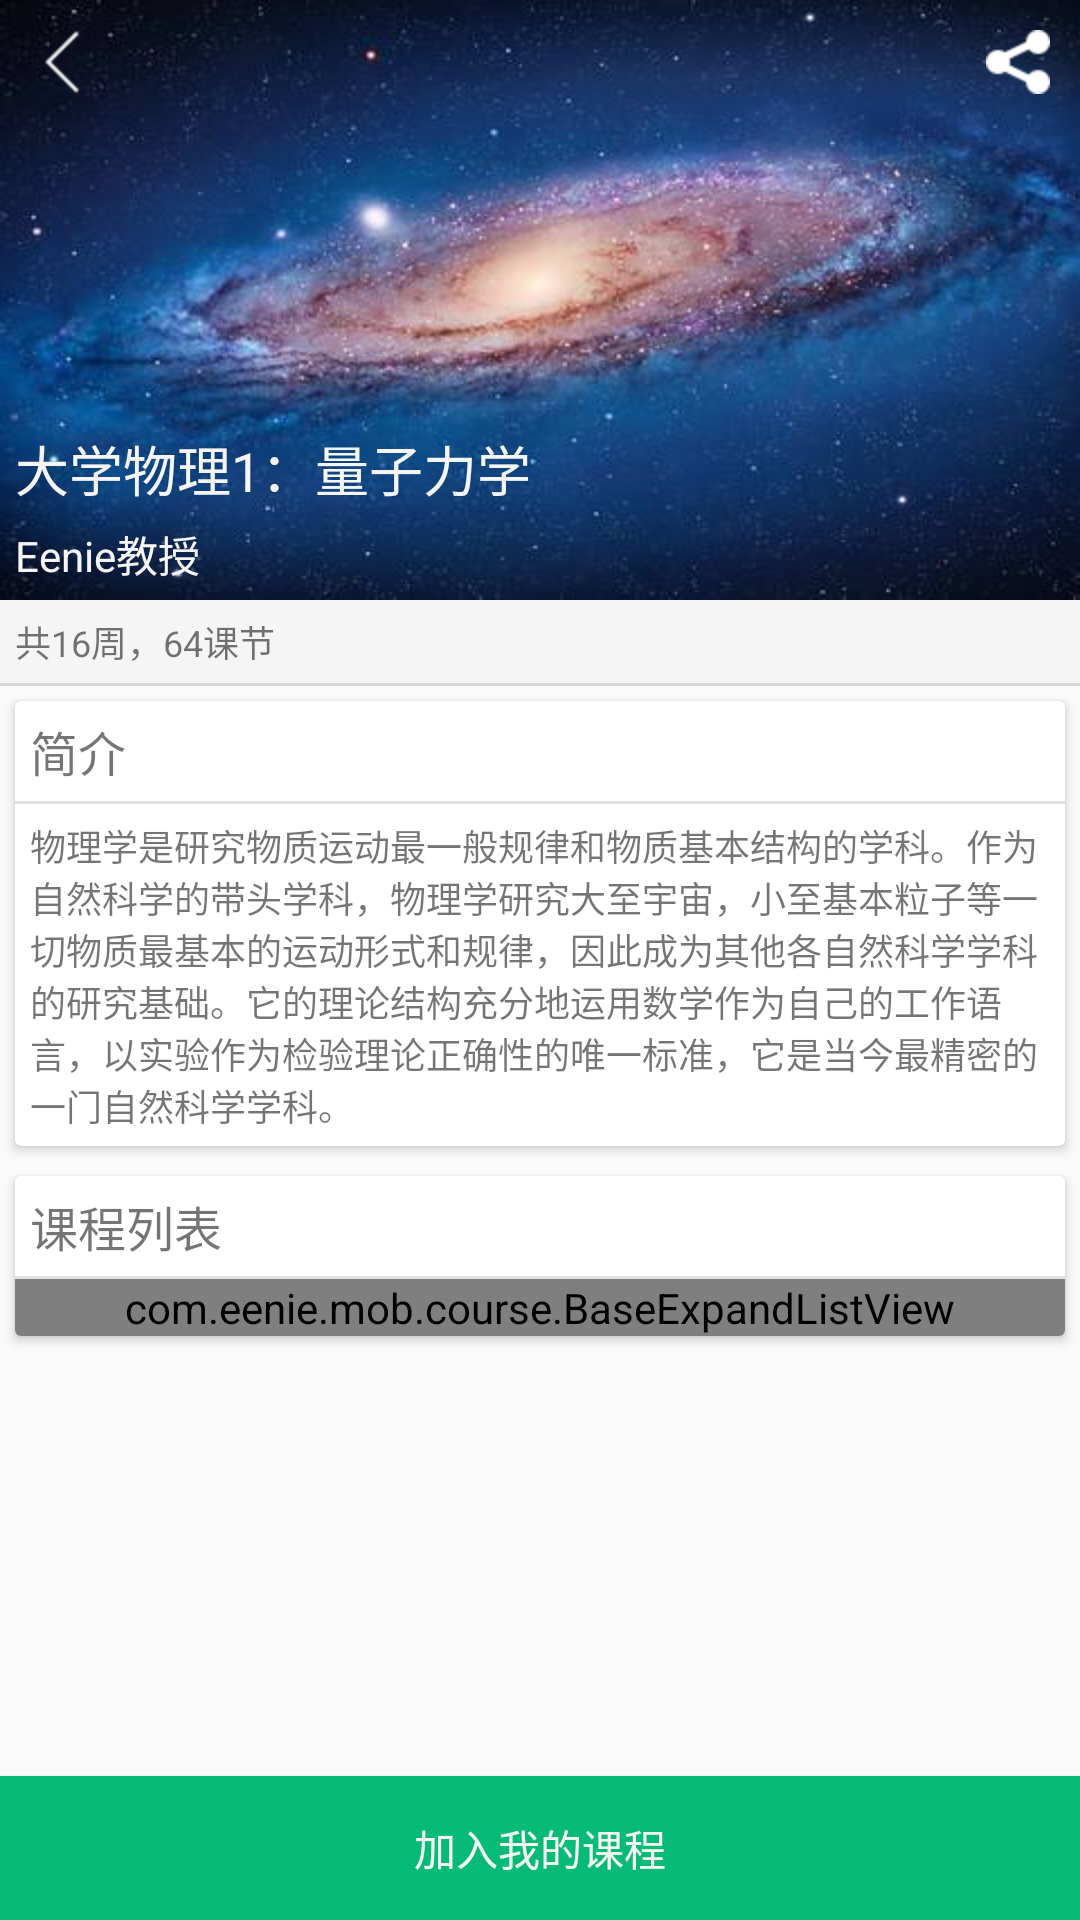

Locate icon controls on the screen. Image size 1080 × 1920, boxes as (x1, y1, x2, y2).
back: (0, 0, 124, 124)
share: (956, 0, 1080, 119)
